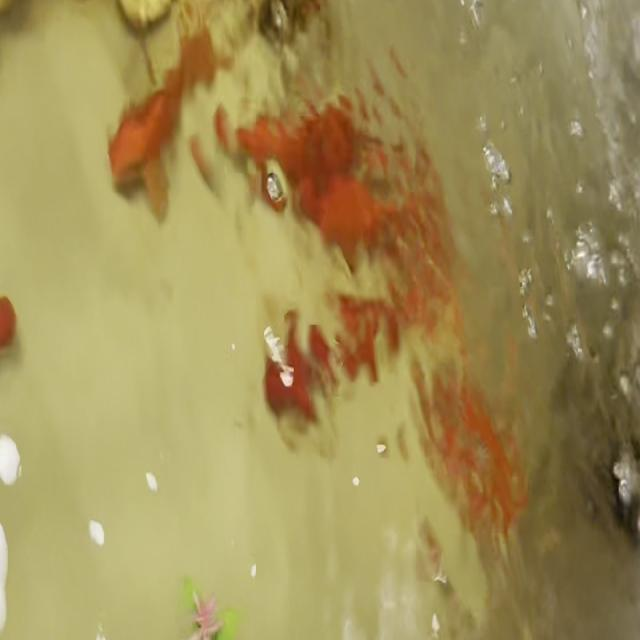fish: (110, 11, 220, 212), (237, 98, 376, 243), (264, 311, 335, 435)
